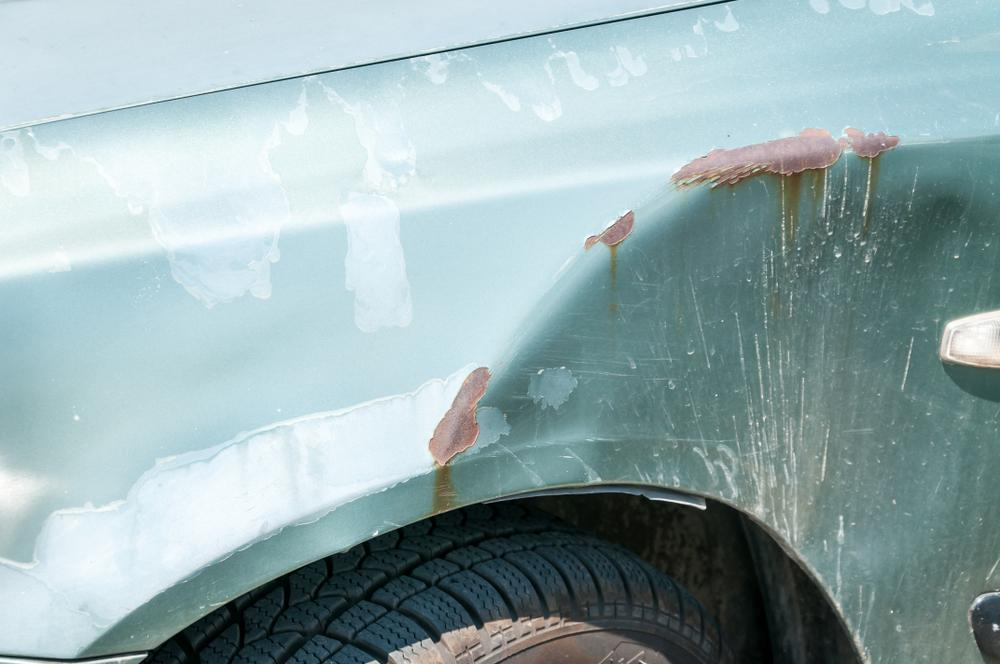dent: (442, 151, 1000, 600)
